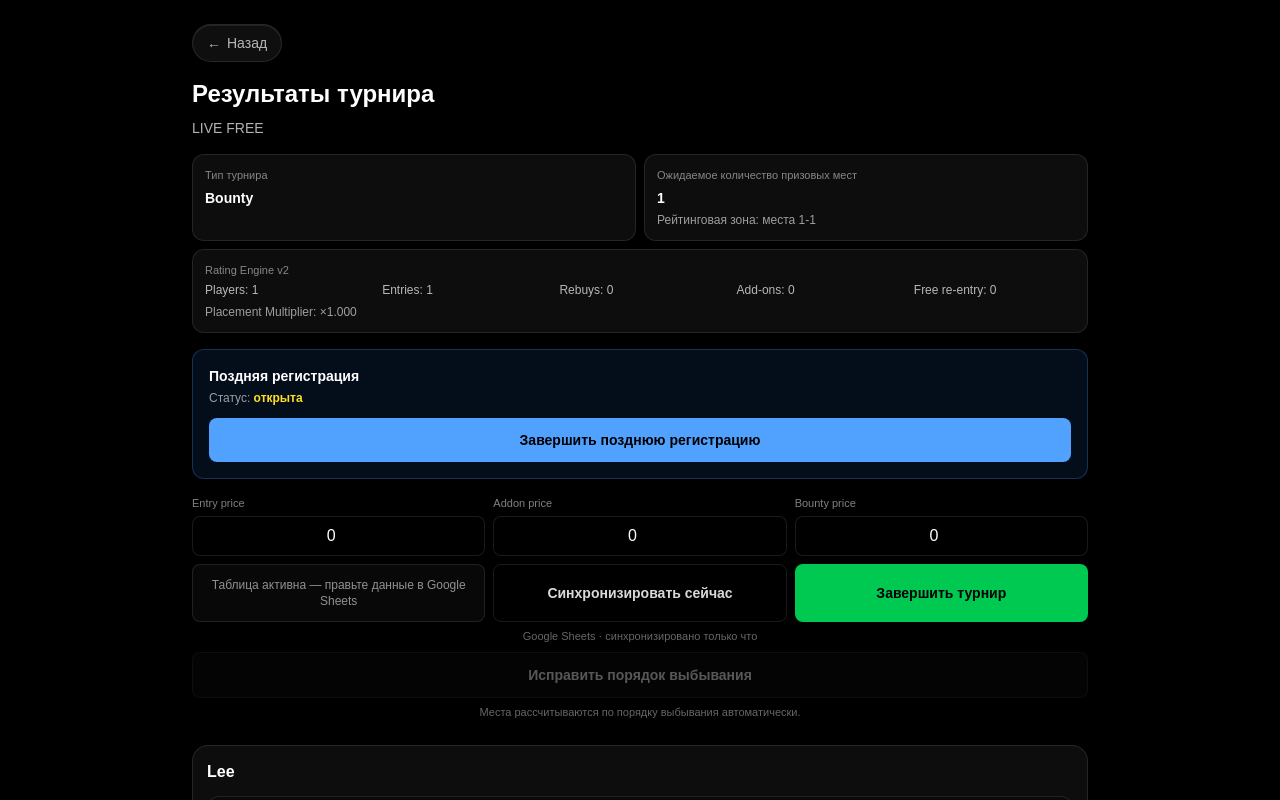
Test case: admin results — Google Sheets auto-refresh (open free GS-linked tournament) › 10. manual 'Синхронизировать сейчас' is unchanged: commit:true, success message, visible error on failure
The image size is (1280, 800).
Click the button "Синхронизировать сейчас" at [640, 592], box left=493, top=564, right=787, bottom=622
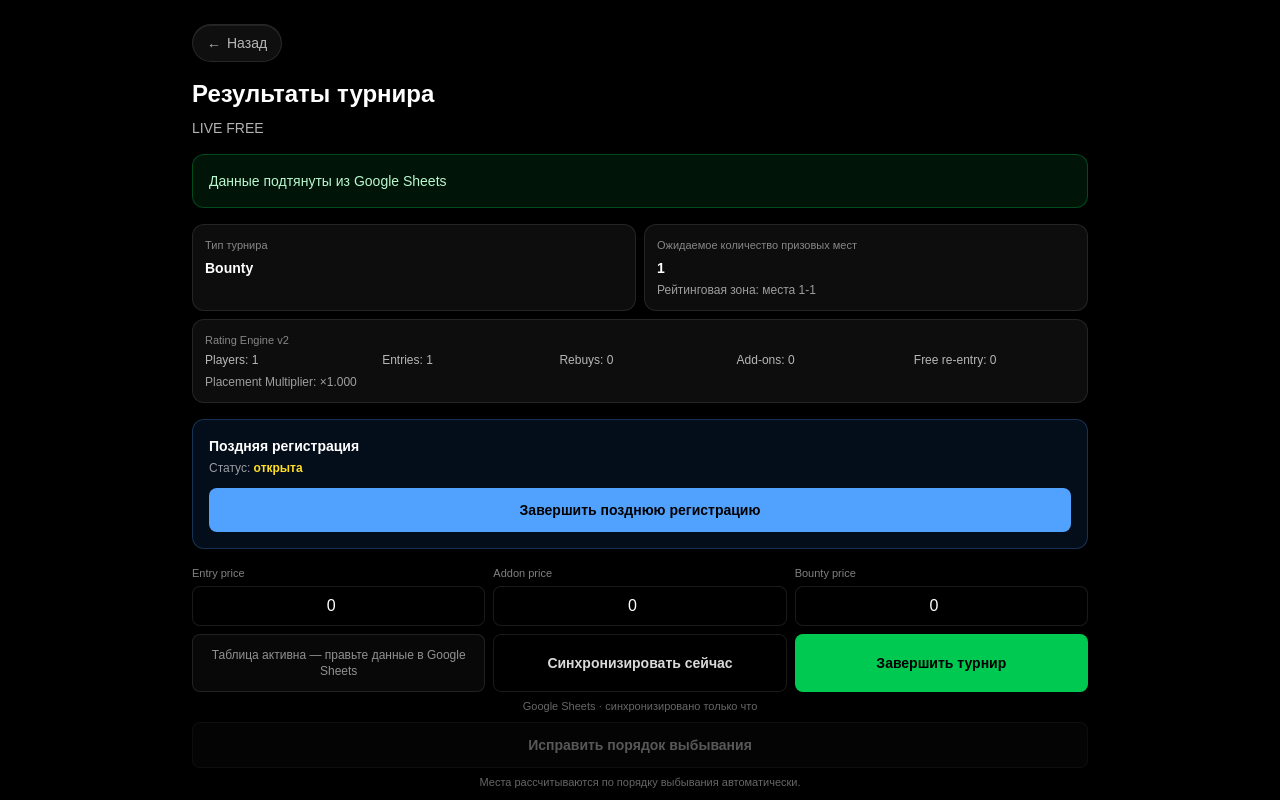
Expected: the text "Данные подтянуты из Google Sheets" is shown, left=192, top=154, right=1088, bottom=208
Click the button "Синхронизировать сейчас" at [640, 662], box left=493, top=634, right=787, bottom=692
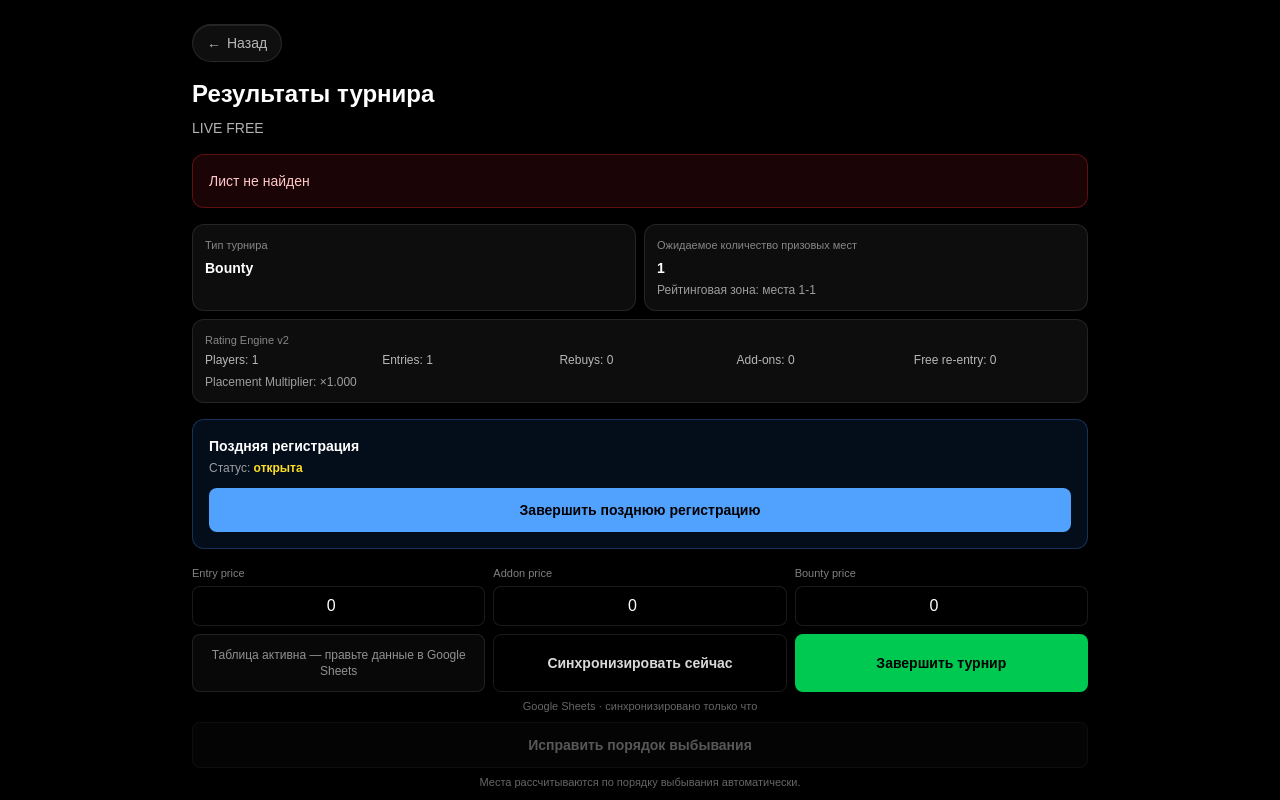
Expected: the text "Лист не найден" is shown, left=192, top=154, right=1088, bottom=208
